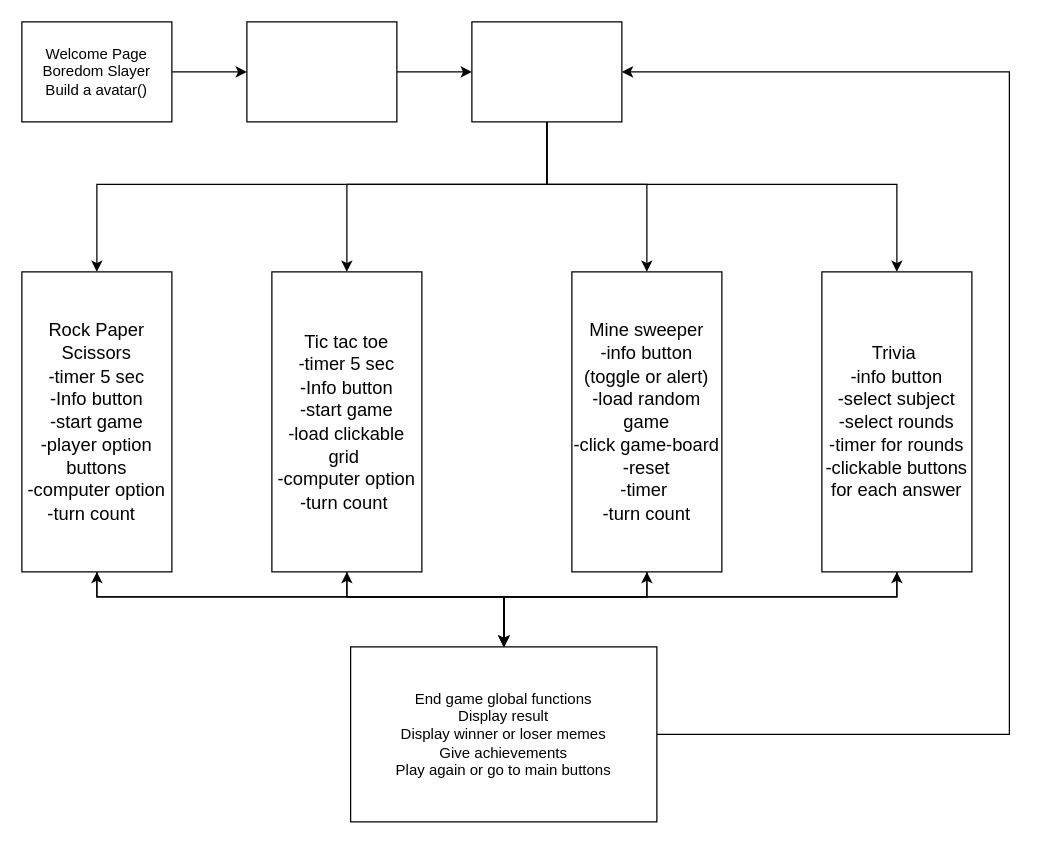
The diagram is 1041 pixels wide and 844 high, and some of its shapes have lost their labels. Here are the shapes that lost their labels. From the top down, the centre of each, then its label:
At [321,71]: "Avatar".
At [546,71]: "Carousel Choose your destiny".
